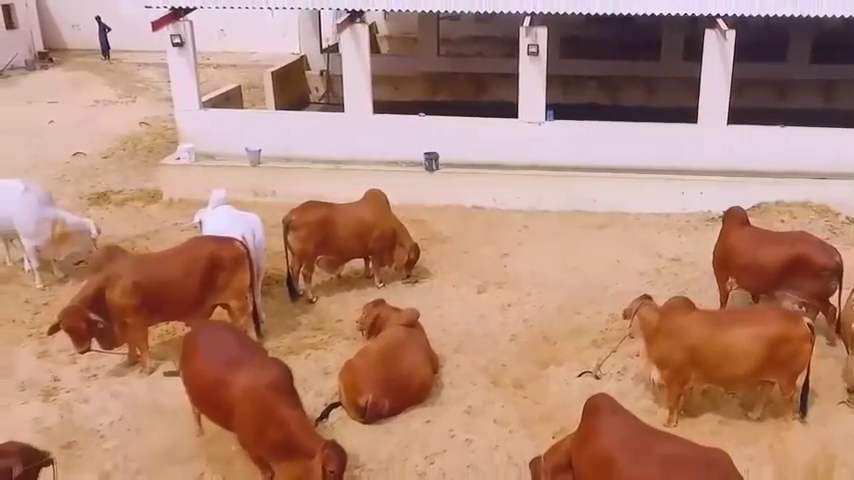bo: (168, 301, 356, 478), (48, 216, 258, 372), (615, 283, 824, 433), (505, 391, 763, 480), (269, 173, 433, 313), (700, 195, 843, 330), (328, 289, 449, 431), (1, 173, 105, 293), (190, 183, 274, 317)
